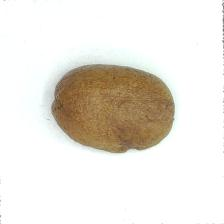NG: (118, 138, 148, 154)
